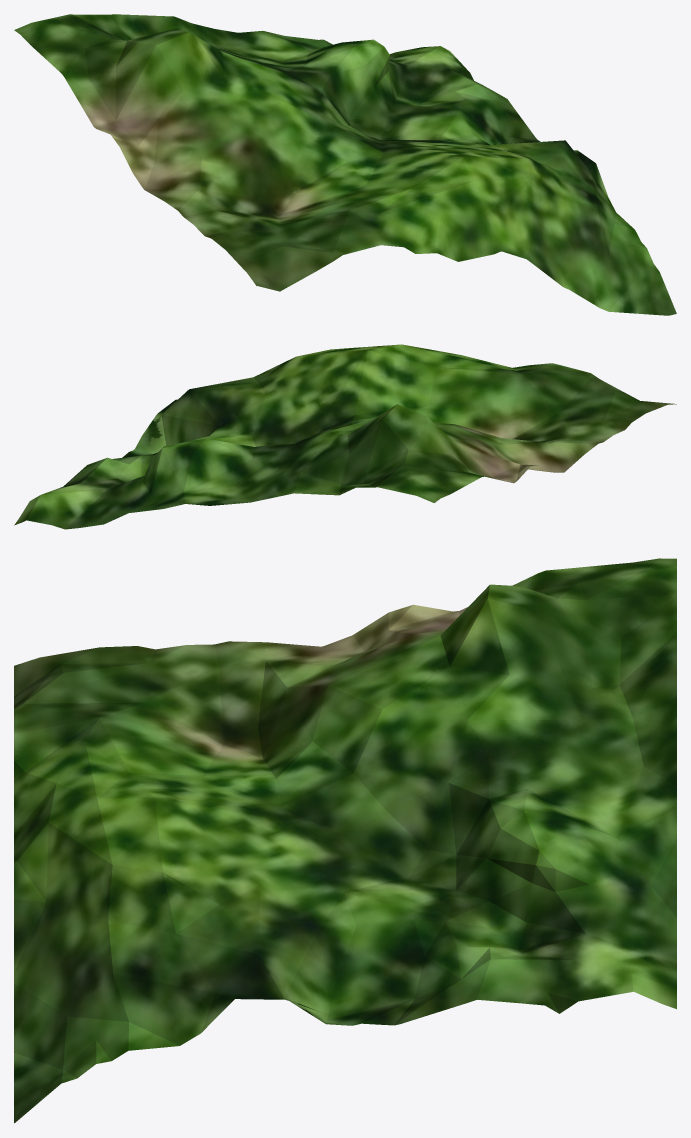
3 views of the same model, one above another, from view 1: azimuth 30°, elevation 25°; view 2: azimuth 150°, elevation 25°; view 3: azimuth 270°, elevation 25° (orthographic). The views are drawn at different scales.
Bounding box in the file's own units: 0.8374 × 0.4403 × 0.8374.
Materials: 3 (3 with a texture image).
